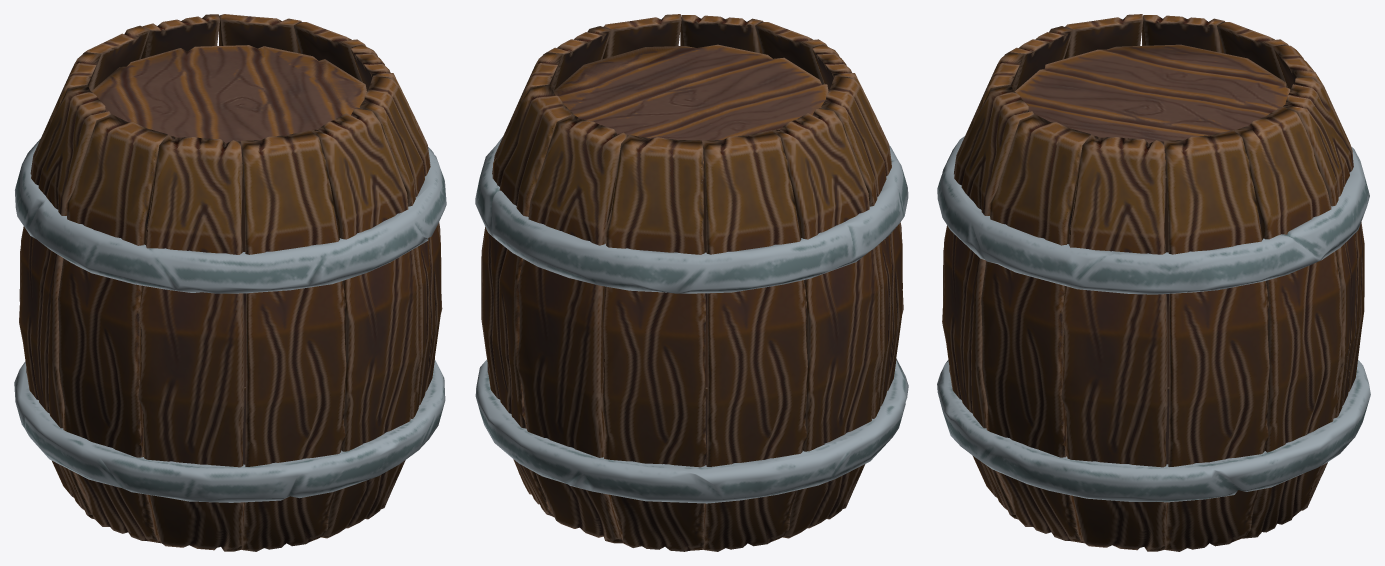
The model's file is barrel.glb.
The picture shows the model from 3 angles, left to right: view 1: azimuth 30°, elevation 25°; view 2: azimuth 150°, elevation 25°; view 3: azimuth 270°, elevation 25°; orthographic projection.
Parts seen in each view (by area): view 1: BarrelClosed_01; view 2: BarrelClosed_01; view 3: BarrelClosed_01.
Boxes of the visible parts, x1=… form: BarrelClosed_01: x1=14, y1=14, x2=446, y2=551; BarrelClosed_01: x1=475, y1=14, x2=908, y2=551; BarrelClosed_01: x1=937, y1=14, x2=1370, y2=551.
Bounding box in the file's own units: 0.2026 × 0.2091 × 0.2025.
1 material, 1 textured.
